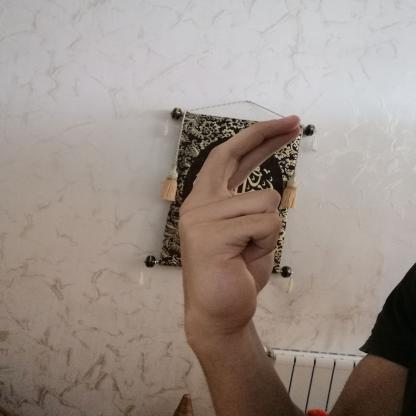ZAY: (161, 107, 316, 347)
